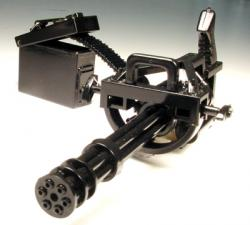rifle: (20, 9, 226, 215)
